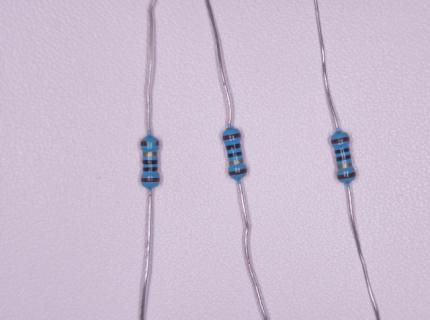Black band: (337, 154, 351, 162), (226, 143, 241, 150), (335, 147, 349, 154), (228, 151, 242, 158), (143, 159, 158, 165), (143, 167, 158, 171)
Brown band: (223, 133, 241, 140), (229, 169, 247, 176), (331, 137, 349, 144), (337, 172, 355, 179), (141, 141, 159, 146), (141, 178, 160, 182)
Gold band: (337, 162, 352, 169), (229, 159, 243, 165), (143, 152, 158, 157)
